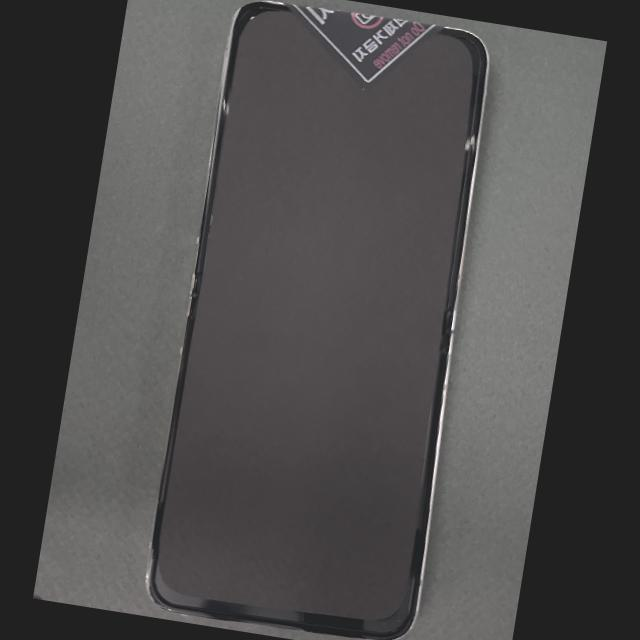phone: (148, 1, 486, 639)
sticker: (282, 2, 446, 92)
